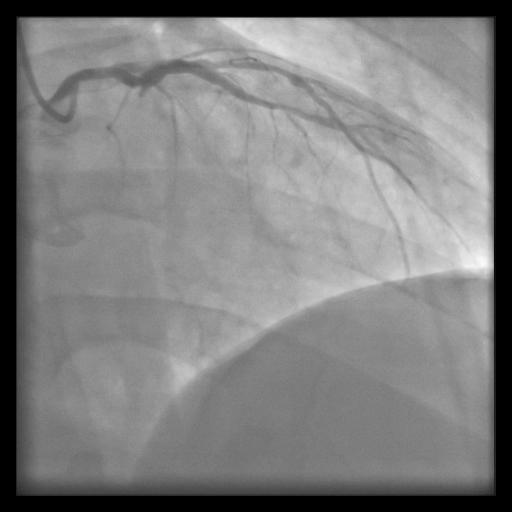Stenosis: (124, 69, 151, 91)
